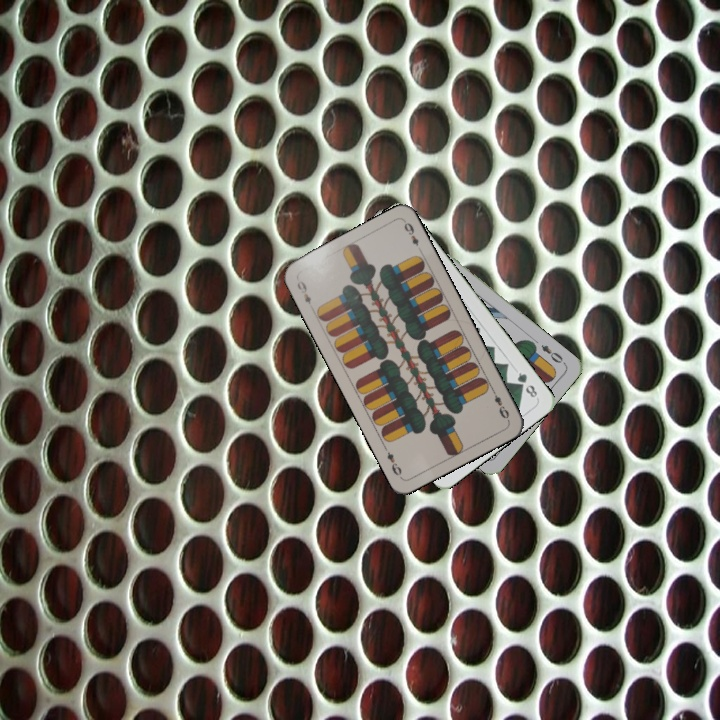E9: (488, 385, 512, 423), (293, 276, 314, 307)
EO: (537, 341, 568, 367)
G8: (513, 368, 540, 400)
